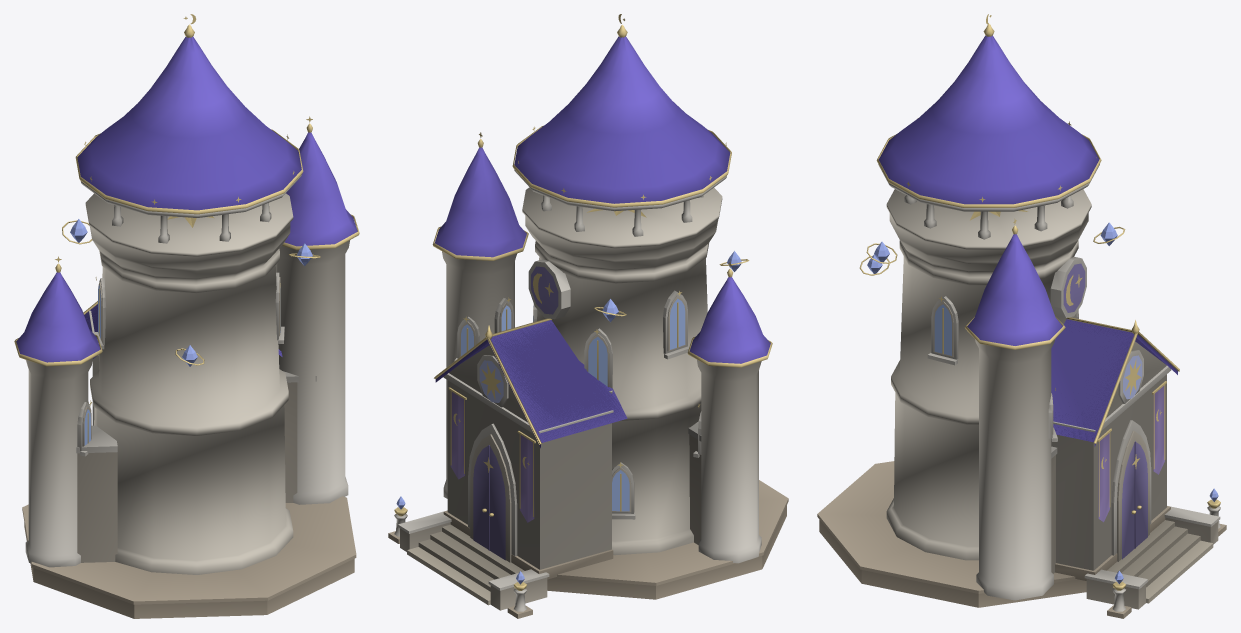
Rendered from mage_lite.glb.
3 views of the same model, side by side, from view 1: azimuth 30°, elevation 25°; view 2: azimuth 150°, elevation 25°; view 3: azimuth 270°, elevation 25° (orthographic). The views are drawn at different scales.
Parts seen in each view (by area): view 1: Mage_stone, Mage_roof, Mage_props, Mage_glow; view 2: Mage_stone, Mage_roof, Mage_props, Mage_glow; view 3: Mage_stone, Mage_roof, Mage_props, Mage_glow.
Part boxes in pixels (x1,y1,x2,y2): Mage_stone: (22,175,356,618); Mage_roof: (16,36,357,362); Mage_props: (14,14,359,443); Mage_glow: (70,219,312,445); Mage_stone: (388,169,788,618); Mage_roof: (435,36,770,448); Mage_props: (394,14,772,590); Mage_glow: (396,251,741,584); Mage_stone: (817,164,1226,618); Mage_roof: (878,35,1177,446); Mage_props: (859,14,1220,590); Mage_glow: (867,222,1218,584).
Size of the model in its own units: 13.27 by 19.98 by 14.18.
